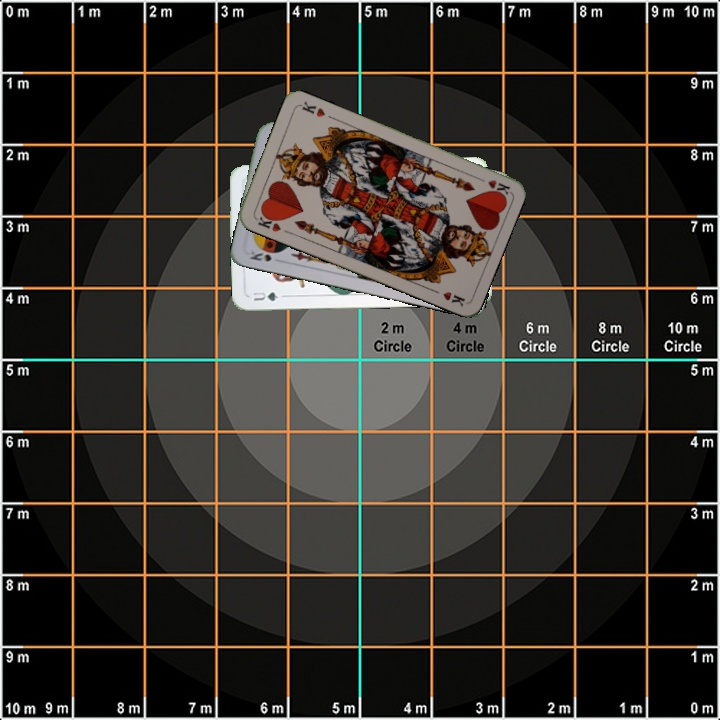GU: (249, 288, 281, 303)
HK: (472, 172, 512, 197), (252, 209, 283, 234)
SK: (246, 246, 285, 265)
